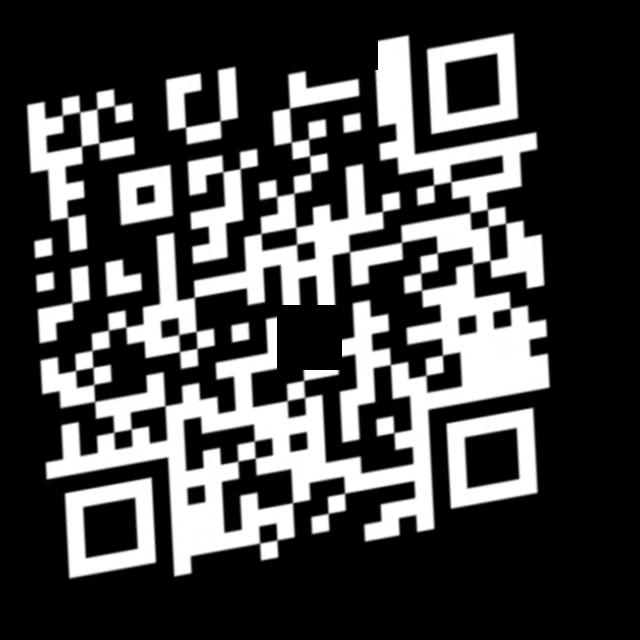QR_CODE: (0, 0, 631, 628)
